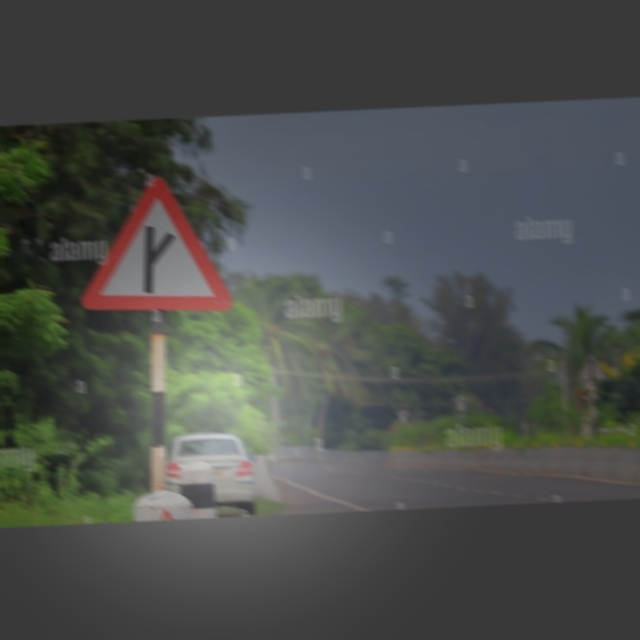Y_Intersection: (78, 167, 227, 319)
